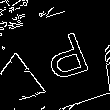P_S: (38, 29, 96, 89)
